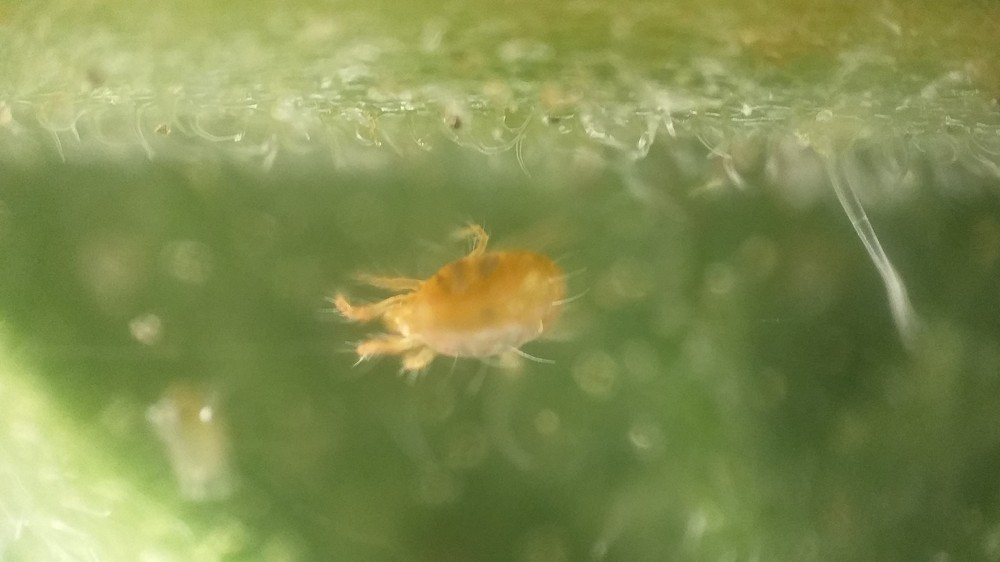Aracnido Rojo: (326, 207, 605, 401)
